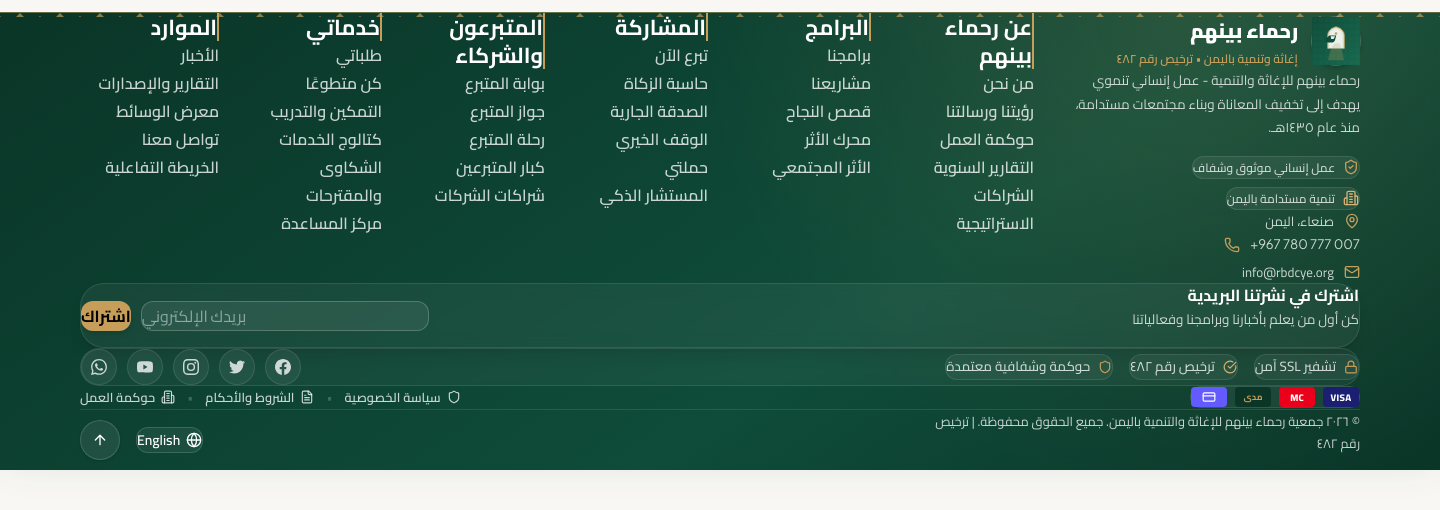
it: Footer Component › submits newsletter form successfully
Type "donor@example.com" into the field with placeholder "بريدك الإلكتروني" at (285, 316), box [141,301,429,331]
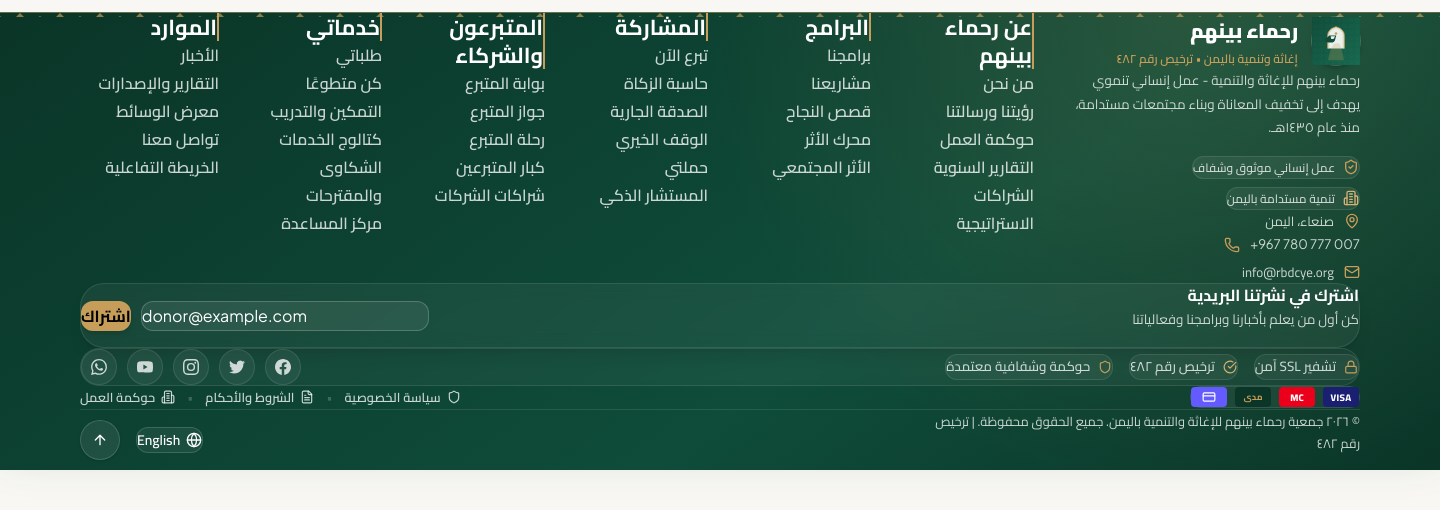
Submit the form with placeholder "بريدك الإلكتروني", box [81,301,429,331]
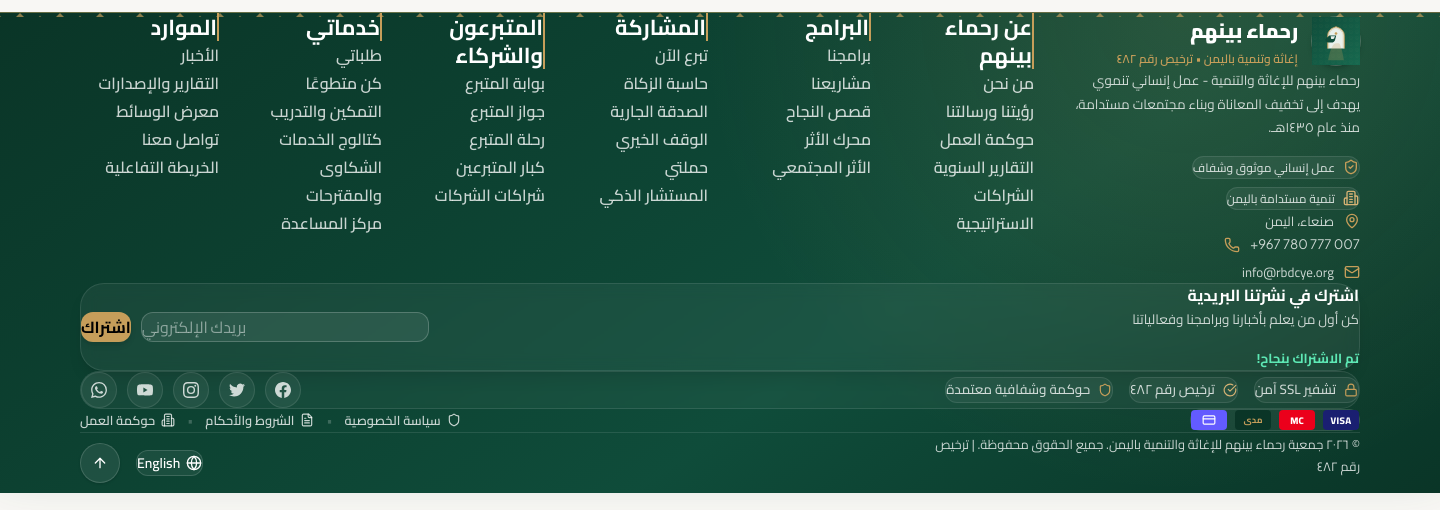
Check: the text "تم الاشتراك بنجاح!" is shown, box [1257,346,1359,370]
